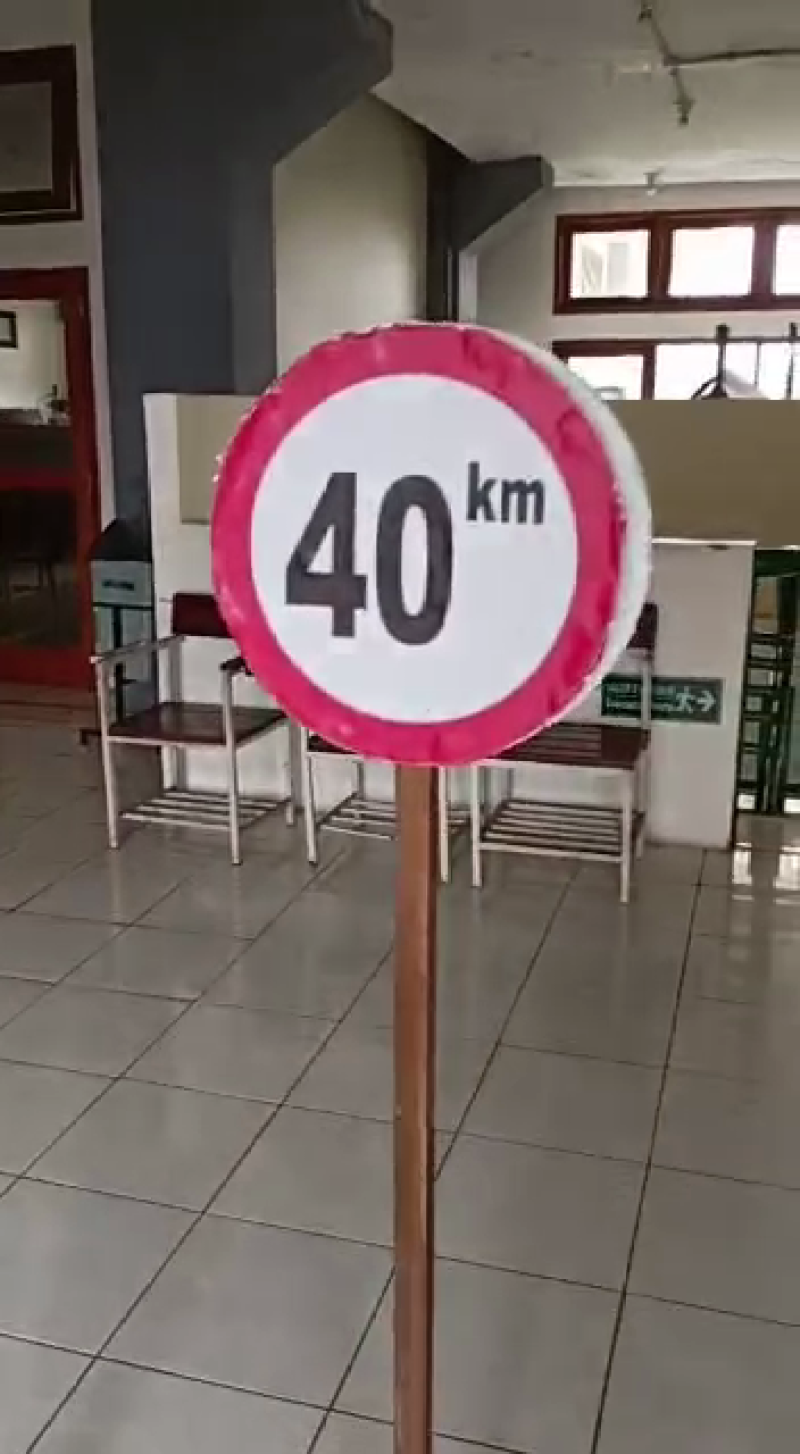batas maksimal 40kmperjam: (195, 311, 658, 776)
